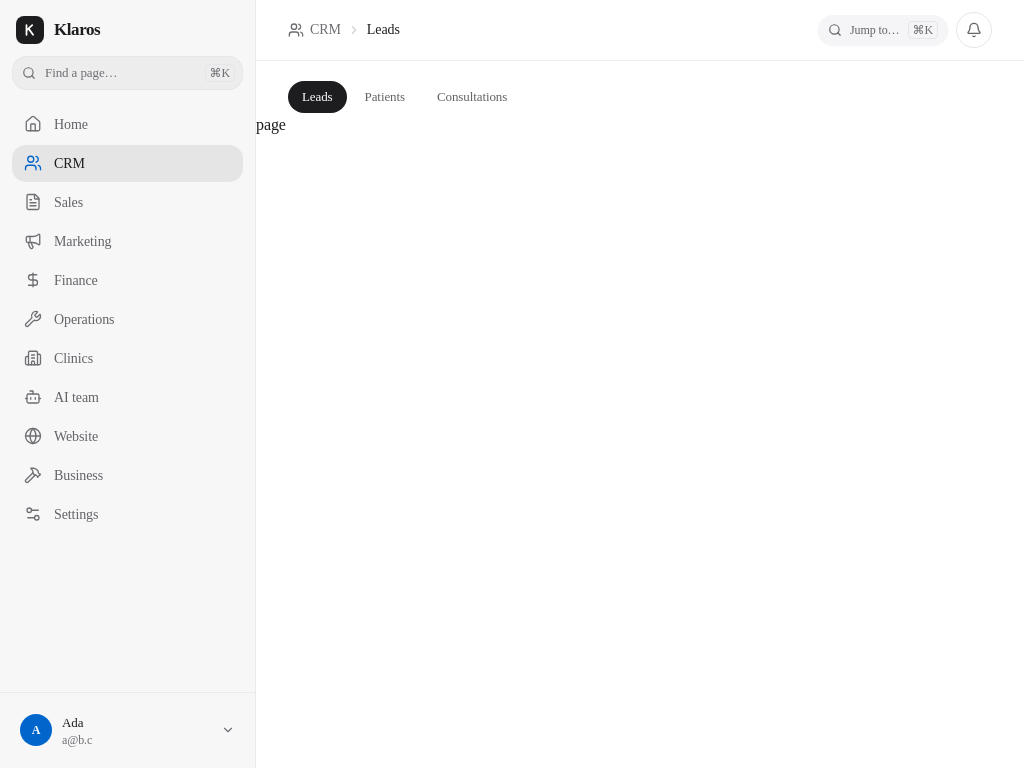
Test case: AppShell navigation › modules a tenant has enabled › searches the pages the tenant can see, including a module's
The width and height of the screenshot is (1024, 768).
Expected: the link "Clinics" is shown, [24,349,93,367]
In the field labelled "Find a page": (128,73) [12,56,243,90], type "provider"
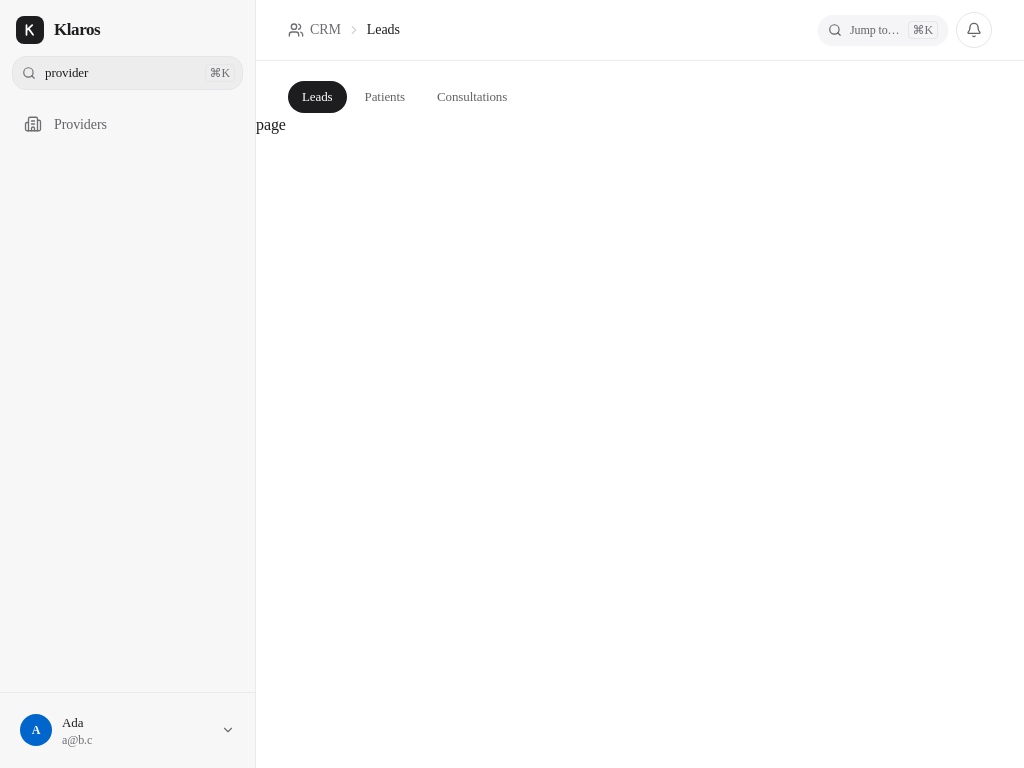
Now the link "Providers" is shown, box [24,115,107,133]
